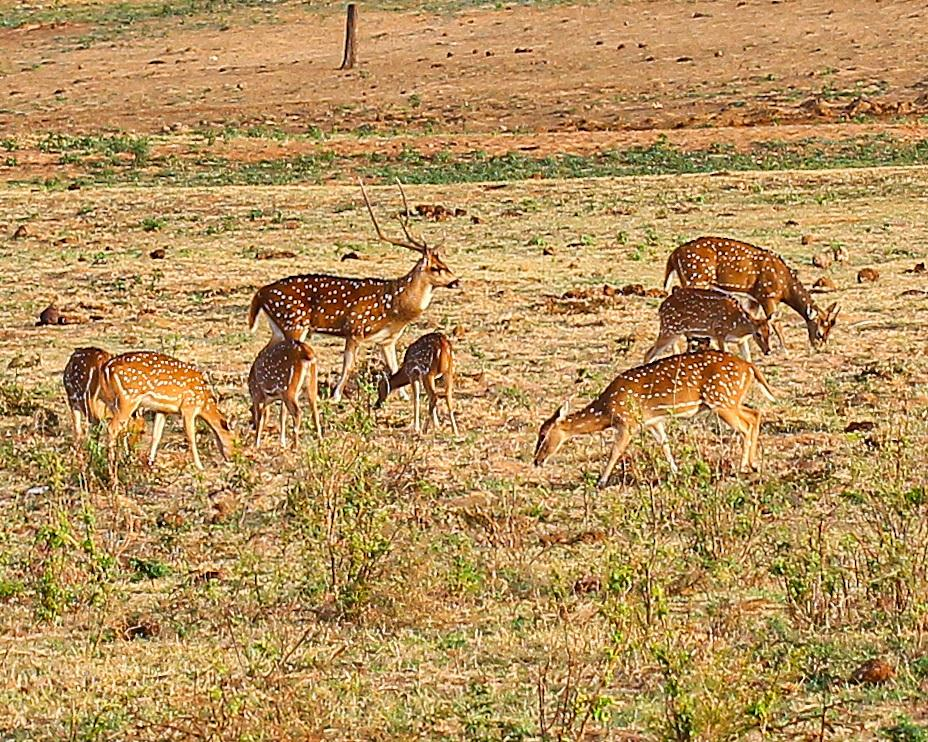Deer: (248, 178, 458, 401), (534, 349, 769, 487), (663, 236, 839, 345), (99, 351, 238, 470), (644, 288, 768, 362), (376, 332, 458, 434), (248, 335, 322, 447)
